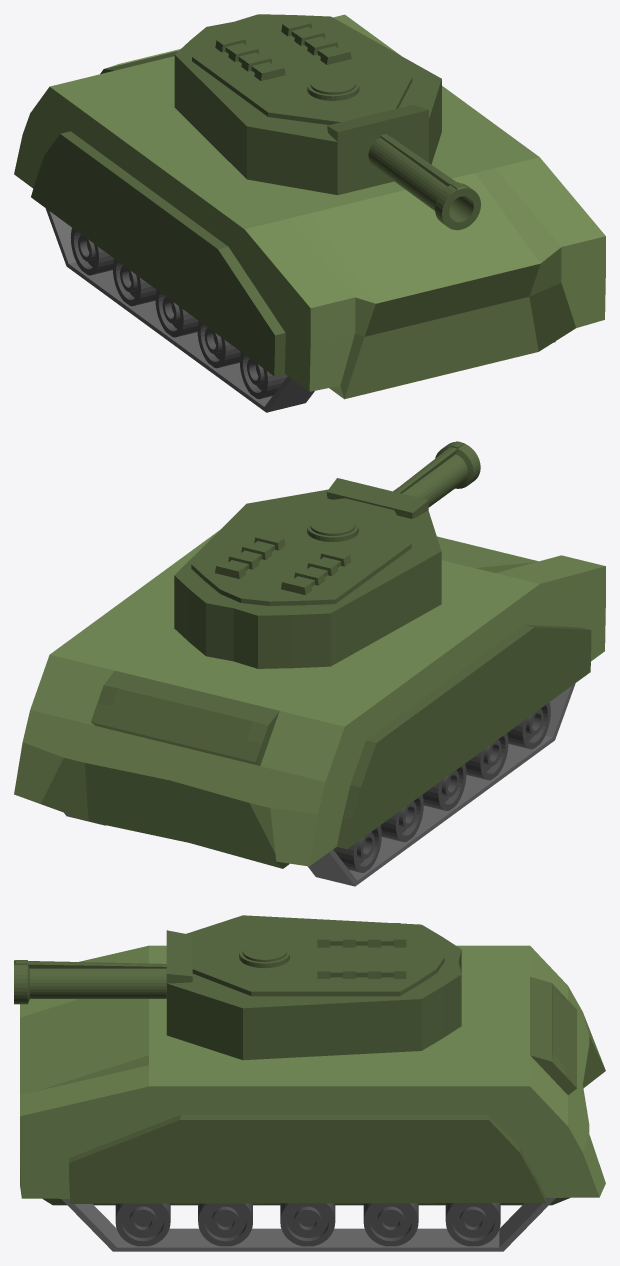
File: tier1.fbx
3 renders of one model, top to bottom at view 1: azimuth 30°, elevation 25°; view 2: azimuth 150°, elevation 25°; view 3: azimuth 270°, elevation 25°, orthographic. The views are drawn at different scales.
Parts seen in each view (by area): view 1: Body4, Turret4, Main Gun4, Road Wheels4, Tracks4; view 2: Body4, Turret4, Road Wheels4, Main Gun4, Tracks4; view 3: Body4, Turret4, Road Wheels4, Tracks4, Main Gun4.
Part boxes in pixels (left/top/right/bottom): Body4: left=14, top=14, right=605, bottom=399; Turret4: left=174, top=14, right=441, bottom=194; Main Gun4: left=327, top=104, right=480, bottom=230; Road Wheels4: left=70, top=228, right=287, bottom=399; Tracks4: left=45, top=208, right=555, bottom=412; Body4: left=14, top=530, right=605, bottom=868; Turret4: left=174, top=489, right=441, bottom=668; Road Wheels4: left=333, top=702, right=550, bottom=872; Main Gun4: left=326, top=441, right=480, bottom=518; Tracks4: left=64, top=683, right=575, bottom=886; Body4: left=20, top=945, right=605, bottom=1205; Turret4: left=167, top=915, right=461, bottom=1060; Road Wheels4: left=115, top=1203, right=500, bottom=1246; Tracks4: left=61, top=1198, right=555, bottom=1251; Main Gun4: left=14, top=930, right=192, bottom=1035.
Bounding box in the file's own units: 386 × 277 × 639.
